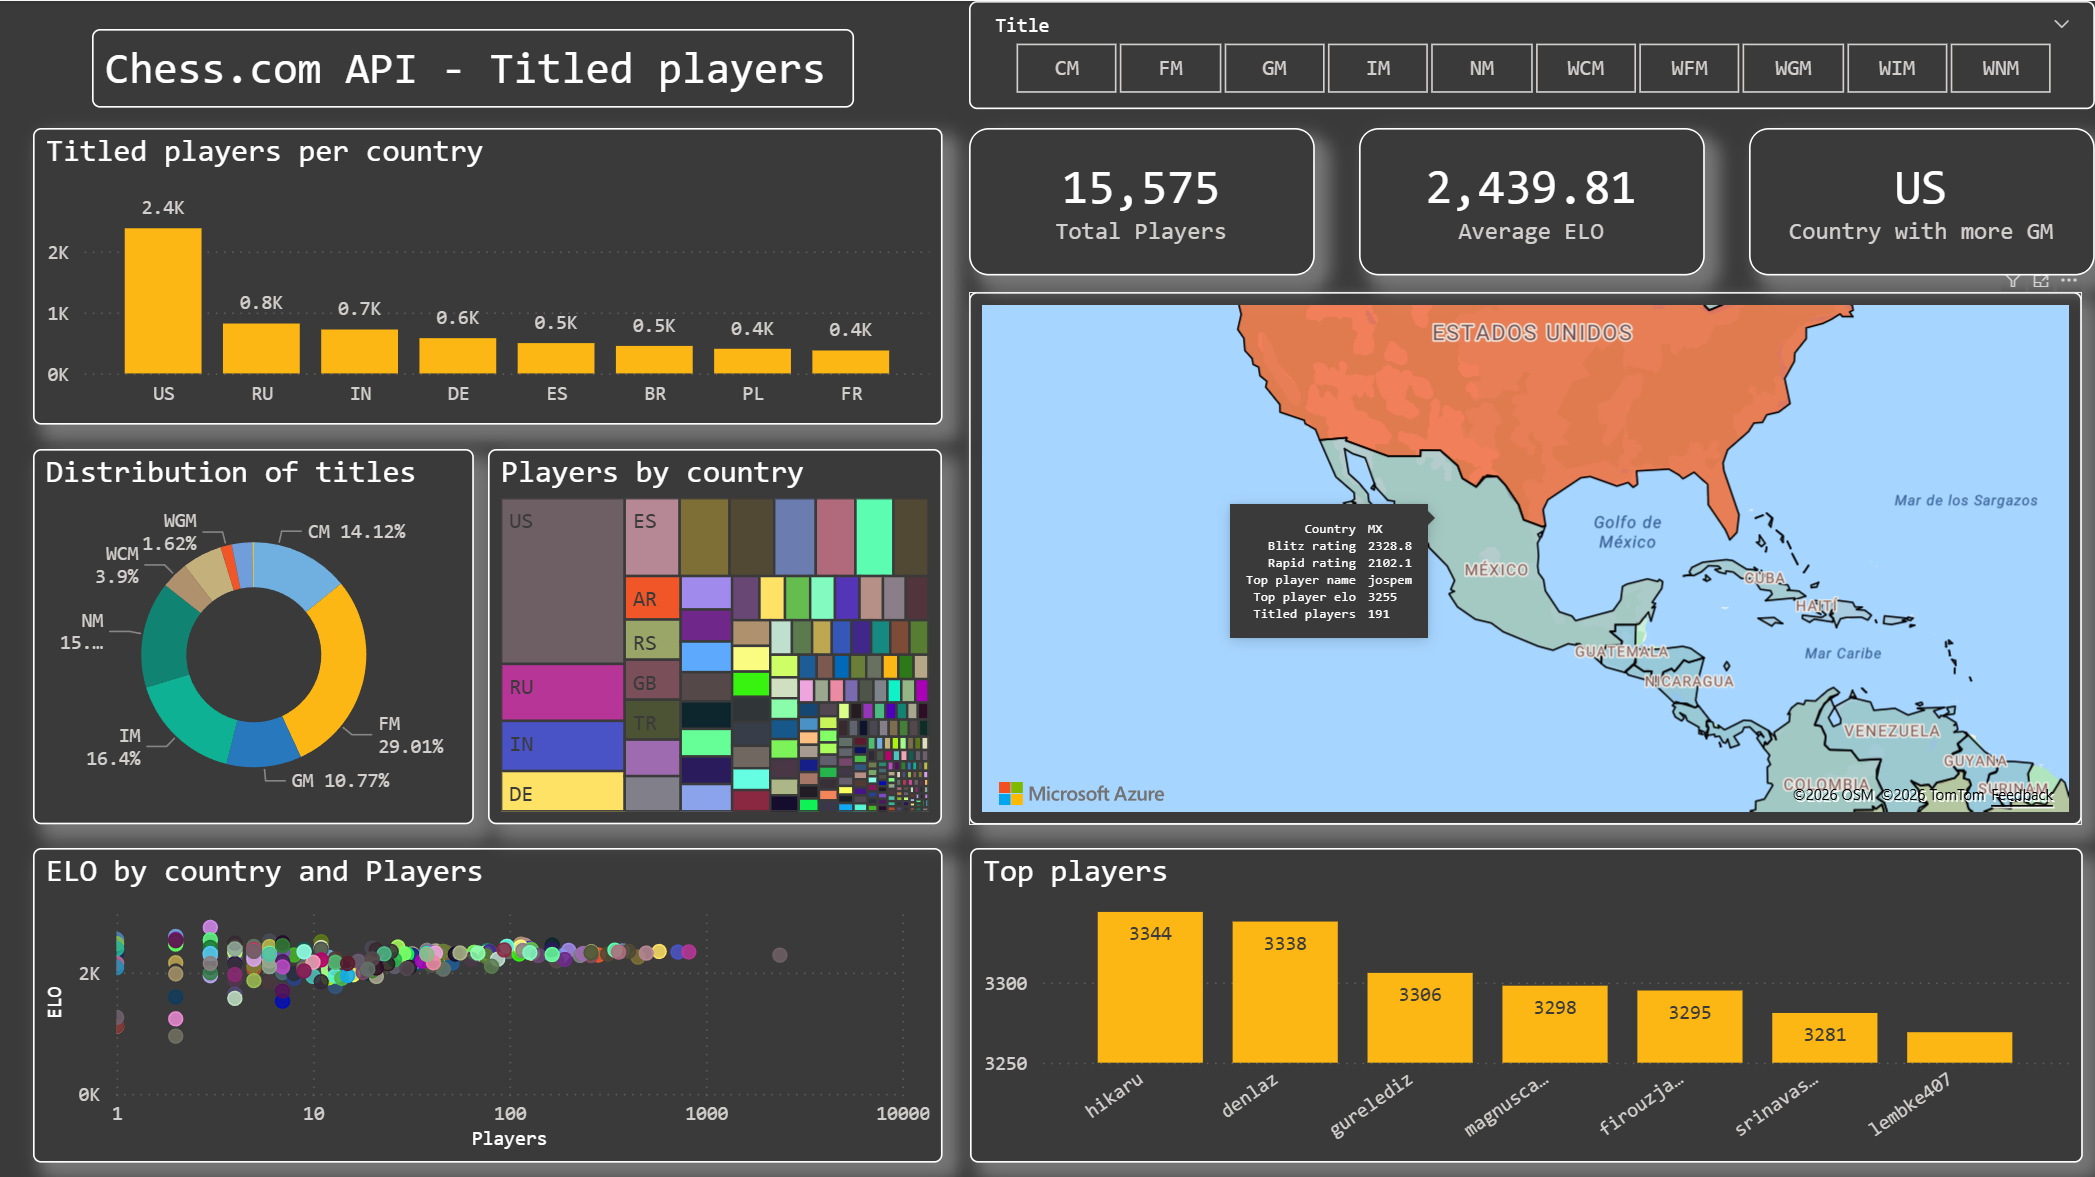

Layout of this report page (visuals, bound fields, positions):
{"tool":"powerbi","page":{"name":"Page 1","canvas":[1280,720],"ordinal":0},"visuals":[{"type":"azureMap","fields":{"Category":["gold_stats_country.country"]},"box":[592.6,177.4,679.3,325.1],"z":0},{"type":"columnChart","title":"Titled players per country","fields":{"Category":["gold_stats_country.country"],"Y":["gold_stats_country.total_titled_players"]},"box":[21.2,77.5,555.5,180.7],"z":1000},{"type":"cardVisual","fields":{"Data":["gold_stats_country.total_players"]},"box":[592.6,77.5,210.5,90],"z":2000,"group":"g1"},{"type":"donutChart","title":"Distribution of titles","fields":{"Y":["gold_stats_country.count_cm","gold_stats_country.count_fm","gold_stats_country.count_gm","gold_stats_country.count_im","gold_stats_country.count_nm","gold_stats_country.count_wcm","gold_stats_country.count_wfm","gold_stats_country.count_wgm","gold_stats_country.count_wim","gold_stats_country.count_wnm"]},"box":[21.2,273.4,269.5,229.1],"z":2000},{"type":"cardVisual","title":"Ace","fields":{"Data":["gold_stats_country.Avg_Mundial"]},"box":[830.7,77.5,210.5,90],"z":3000,"group":"g1"},{"type":"textbox","box":[57.6,17.2,465.4,48.3],"z":3000},{"type":"cardVisual","title":"Ace","fields":{"Data":["gold_stats_country.country"]},"box":[1068.7,77.5,210.7,90],"z":4000,"group":"g1"},{"type":"group","id":"g1","title":"Group 1","box":[592.6,77.5,687.2,90],"z":4000},{"type":"slicer","fields":{"Values":["Slicer_titulos.Title_name"]},"box":[592.6,0,687.2,65.5],"z":5000},{"type":"scatterChart","fields":{"X":["gold_stats_country.total_titled_players"],"Series":["gold_stats_country.country"],"Y":["gold_stats_country.Avg_ELO_Blitz_Rapid"]},"box":[21.2,517.1,555.5,192],"z":6000},{"type":"treemap","title":"Players by country","fields":{"Group":["gold_stats_country.country"],"Values":["gold_stats_country.total_titled_players"]},"box":[299.3,273.4,276.7,229.1],"z":7000},{"type":"columnChart","title":"Top players","fields":{"Category":["gold_stats_country.top_player_name"],"Y":["gold_stats_country.top_player_elo"]},"box":[593.2,517.1,678.6,192],"z":8000}]}

Visuals, with their boxes in screenshot pixels (x1, y1, x2, y2), scaled from the page's 1280x720 canvas onto the 2095x1177 screenshot:
azureMap - gold_stats_country.country: [x1=970, y1=290, x2=2082, y2=821]
"Titled players per country" columnChart: [x1=35, y1=127, x2=944, y2=422]
cardVisual - gold_stats_country.total_players: [x1=970, y1=127, x2=1314, y2=274]
"Distribution of titles" donutChart: [x1=35, y1=447, x2=476, y2=821]
"Ace" cardVisual: [x1=1360, y1=127, x2=1704, y2=274]
textbox: [x1=94, y1=28, x2=856, y2=107]
"Ace" cardVisual: [x1=1749, y1=127, x2=2094, y2=274]
"Group 1" group: [x1=970, y1=127, x2=2094, y2=274]
slicer - Slicer_titulos.Title_name: [x1=970, y1=0, x2=2094, y2=107]
scatterChart - gold_stats_country.total_titled_players x gold_stats_country.country: [x1=35, y1=845, x2=944, y2=1159]
"Players by country" treemap: [x1=490, y1=447, x2=943, y2=821]
"Top players" columnChart: [x1=971, y1=845, x2=2082, y2=1159]
